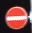No entry: (5, 5, 27, 28)
